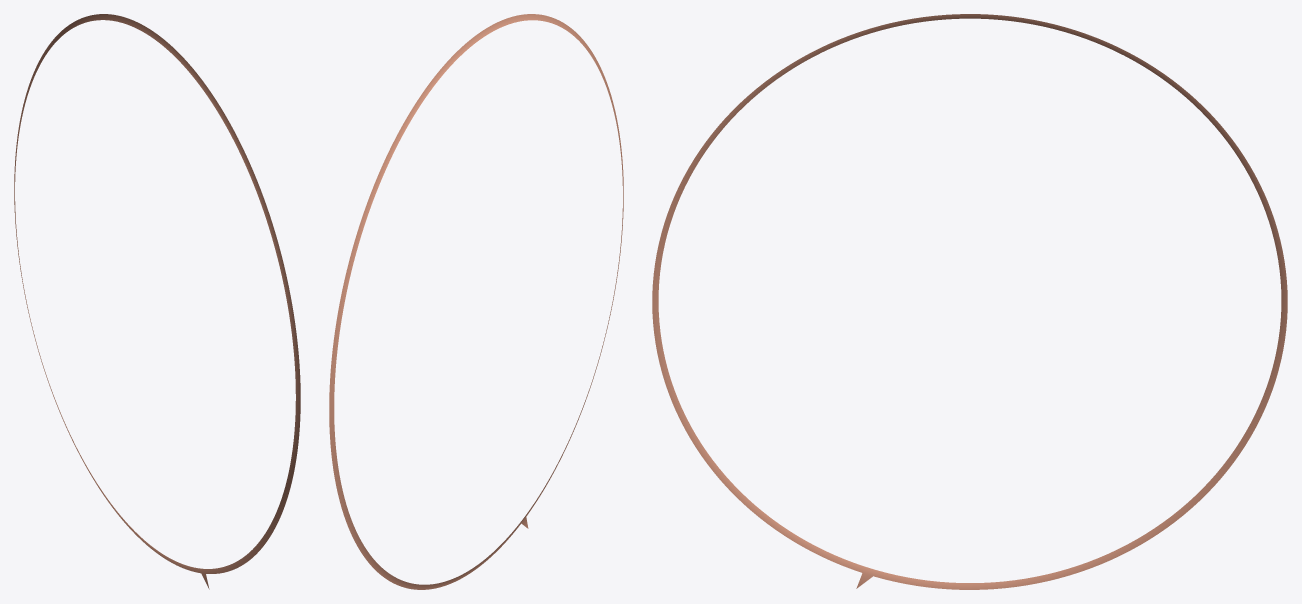
File: stock_line.fbx
3 renders of one model, left to right at view 1: azimuth 30°, elevation 25°; view 2: azimuth 150°, elevation 25°; view 3: azimuth 270°, elevation 25°, orthographic. The views are drawn at different scales.
Visible parts, largest first — view 1: stock_line; view 2: stock_line; view 3: stock_line.
Part boxes in pixels (x1,y1,x2,y2): stock_line: [14, 14, 300, 589]; stock_line: [329, 14, 623, 589]; stock_line: [652, 14, 1287, 589].
Size of the model in its own units: 14.22 by 2508 by 2508.
